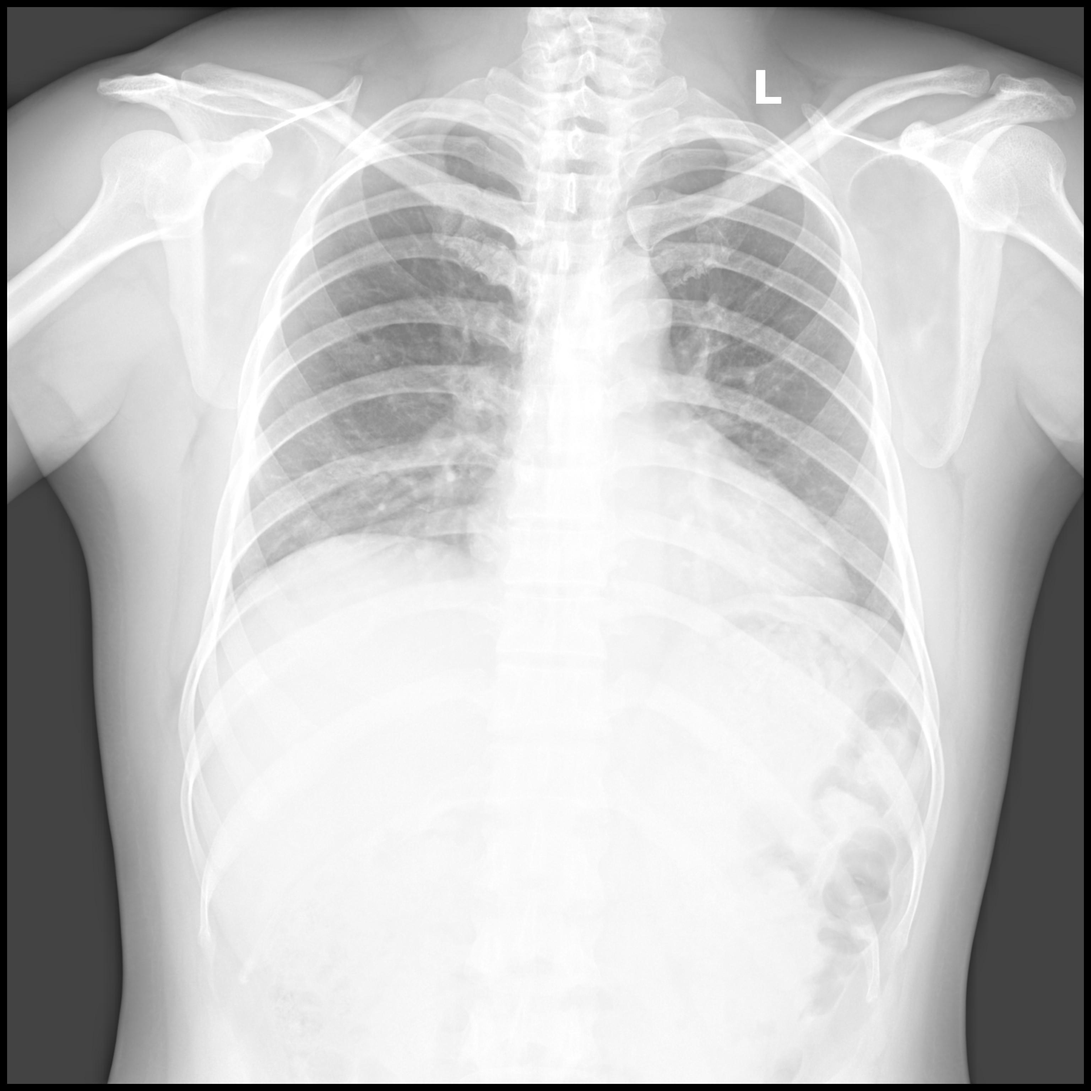Cardiomegaly: (460, 483, 859, 630)
